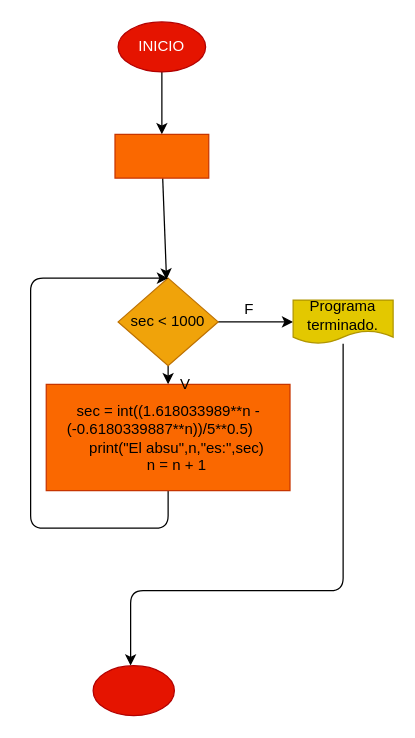
The diagram is 415 pixels wide and 738 high, and some of its shapes have lost their labels. Each missing label, with the centre of its shape:
"FIN" goes at (133,690).
"sec = 0 n = 3" goes at (161,155).
